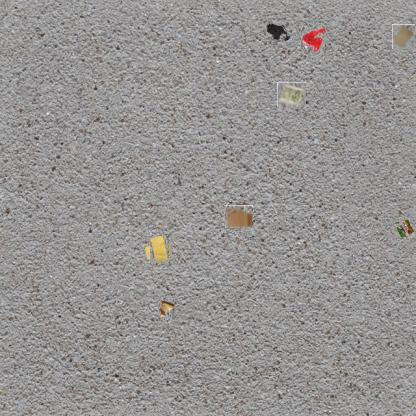dirty: (278, 81, 305, 108), (225, 204, 252, 230), (392, 216, 416, 240), (147, 238, 171, 262), (392, 24, 415, 49), (158, 300, 178, 320)
liquid: (300, 27, 326, 53), (266, 24, 292, 44)
